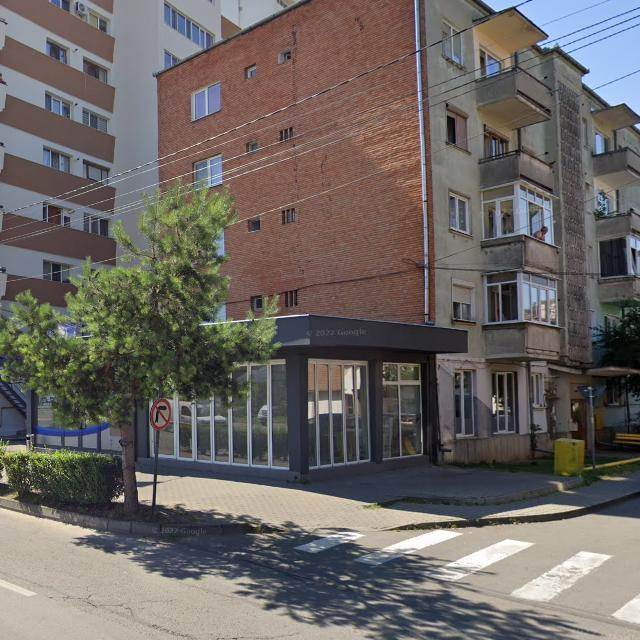forb_right: (150, 398, 171, 430)
